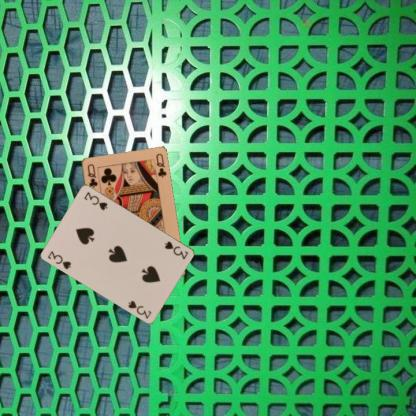3s: (162, 238, 190, 260), (45, 248, 73, 270)
Qc: (85, 161, 99, 189)
